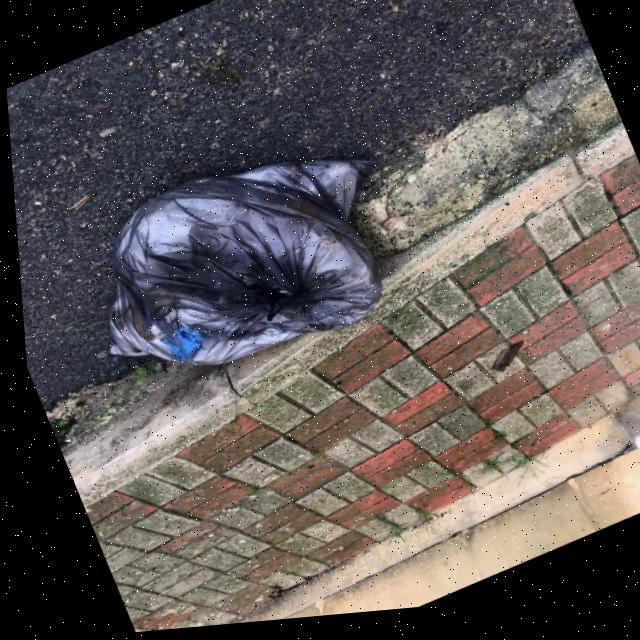Mixed Waste -Black Bag-: (50, 110, 432, 424)
